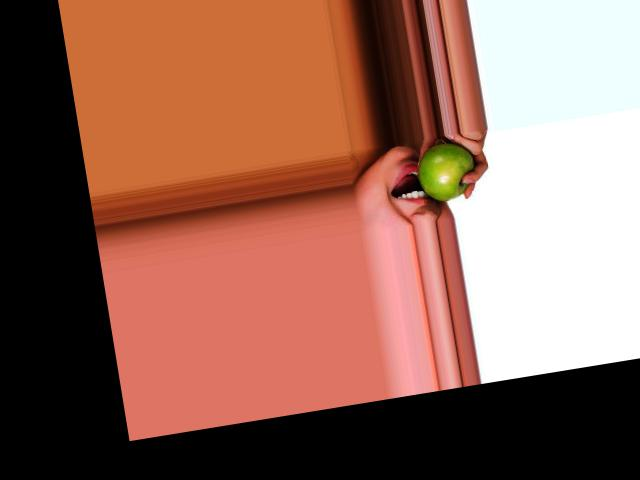apple: (411, 139, 481, 205)
